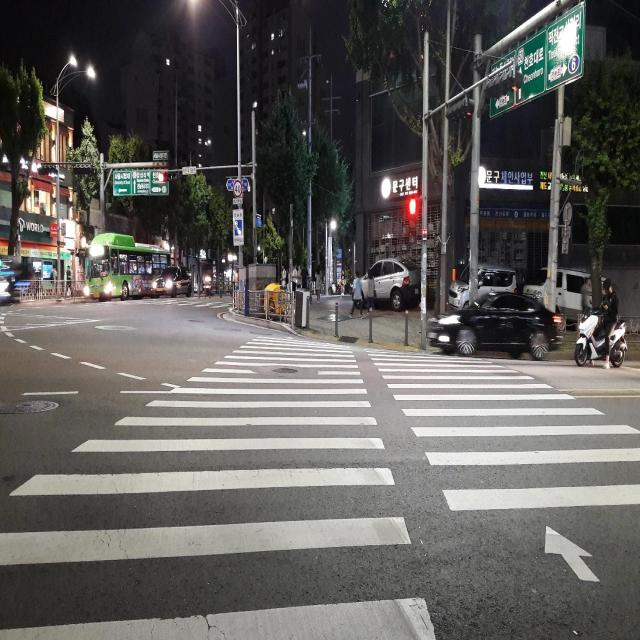빨간불: (408, 200, 420, 243)
횡단보도: (0, 332, 640, 639)
